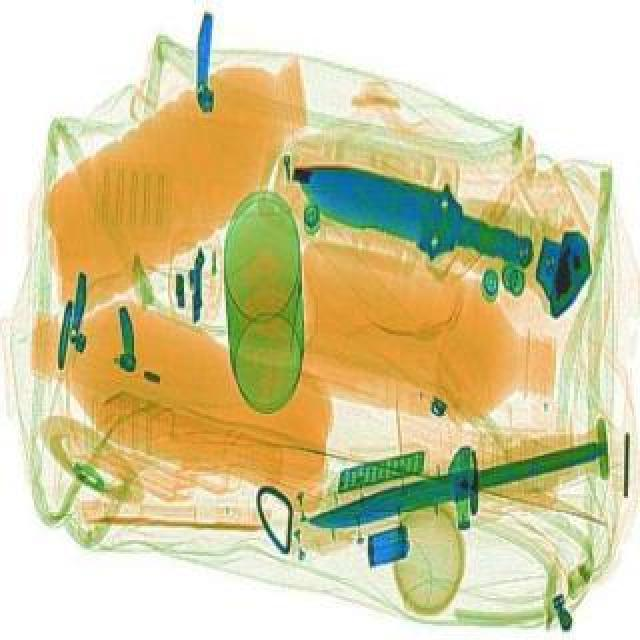knife: (298, 416, 620, 548), (278, 134, 546, 286)
